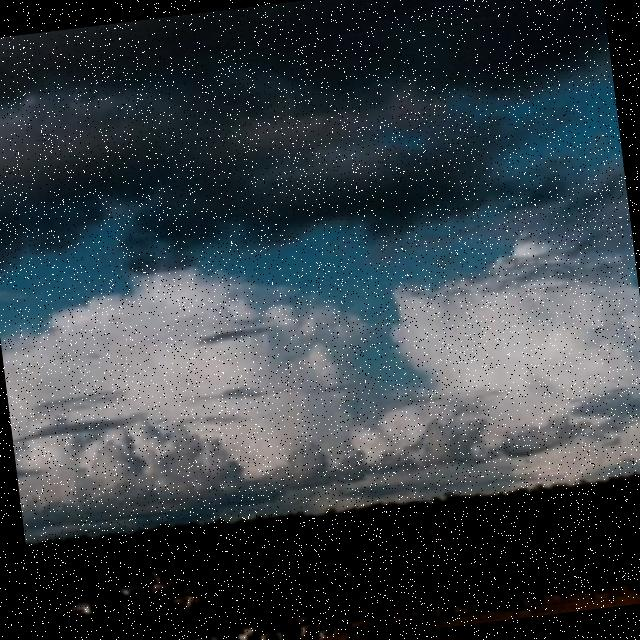Sc: (1, 1, 633, 314)
